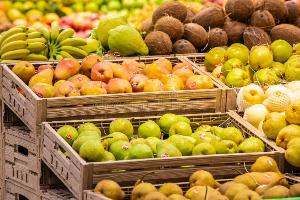pear: (52, 112, 262, 167), (8, 52, 208, 108), (84, 156, 300, 200), (200, 39, 300, 87)
